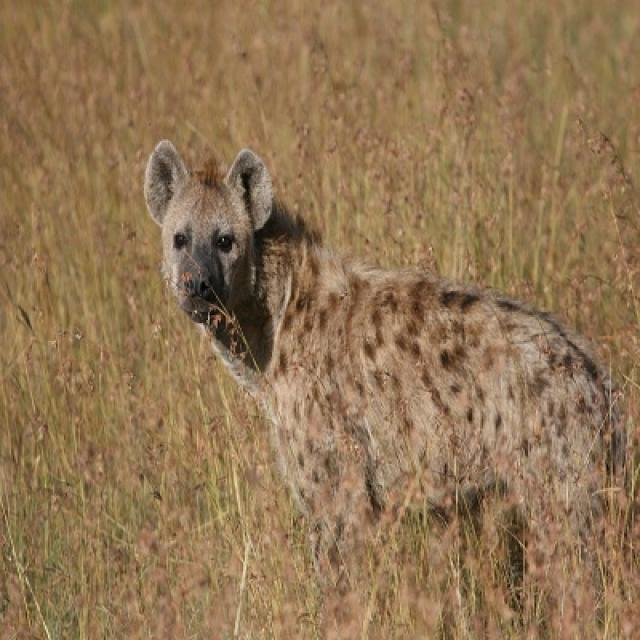hyena: (141, 139, 624, 582)
